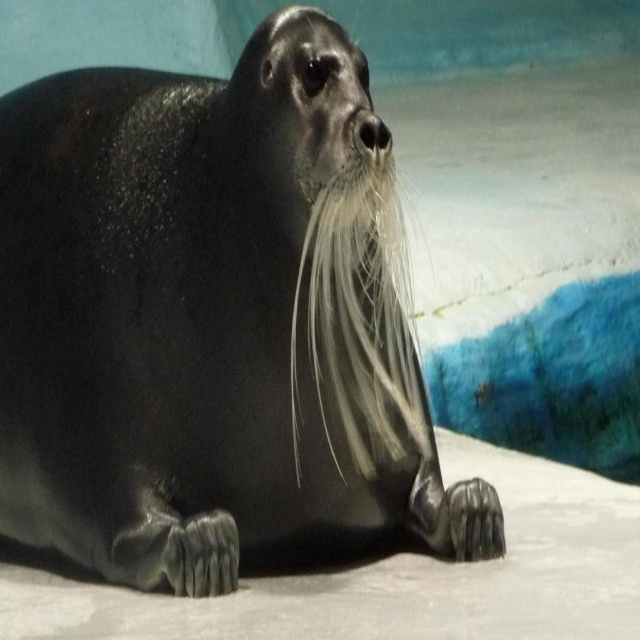Sea lion: (0, 4, 506, 599)
